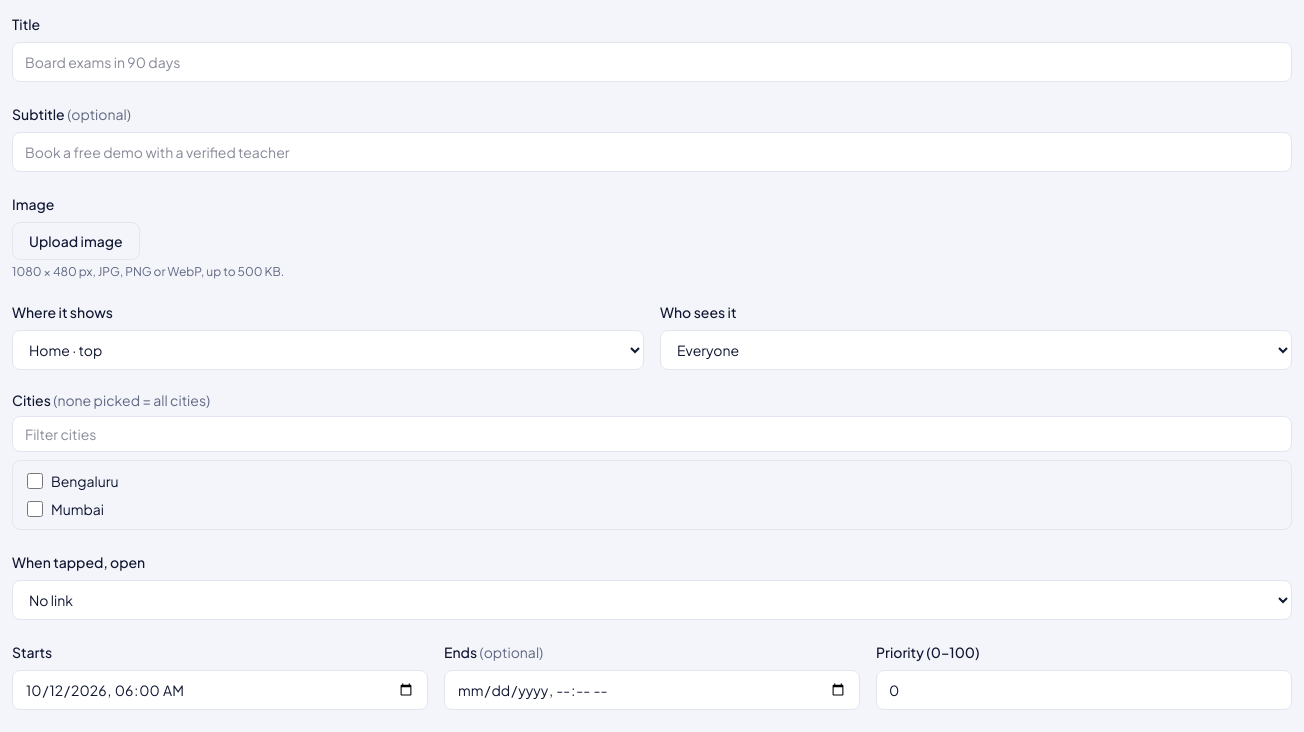
Test case: BannerForm › says "all cities" when none are picked, and filters the list
Check: the checkbox labelled "Mumbai" is shown, box [27,501,43,517]
Check: the text "(none picked = all cities)" is shown, box [53,391,210,409]
Type "mum" into the search field labelled "Filter cities". click: {"x": 652, "y": 434}
box: [12,416,1292,452]
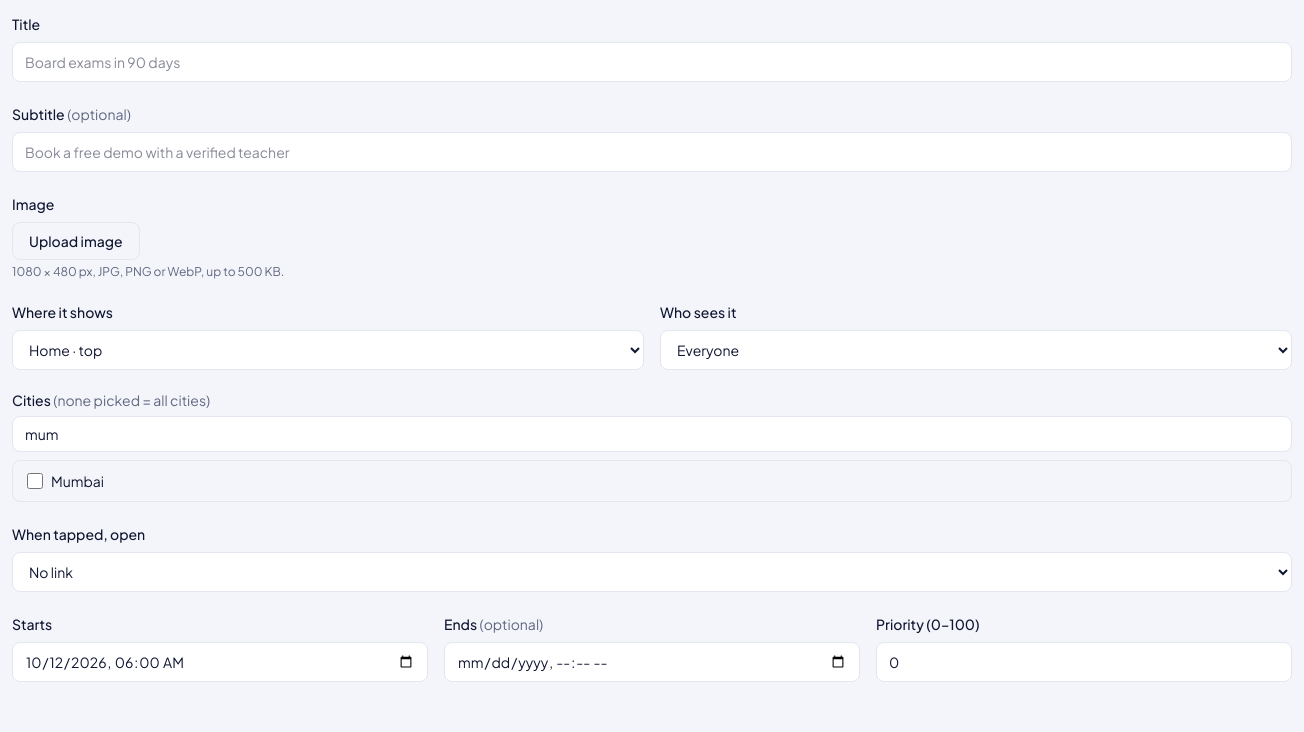
Check: the label "Bengaluru" is gone
